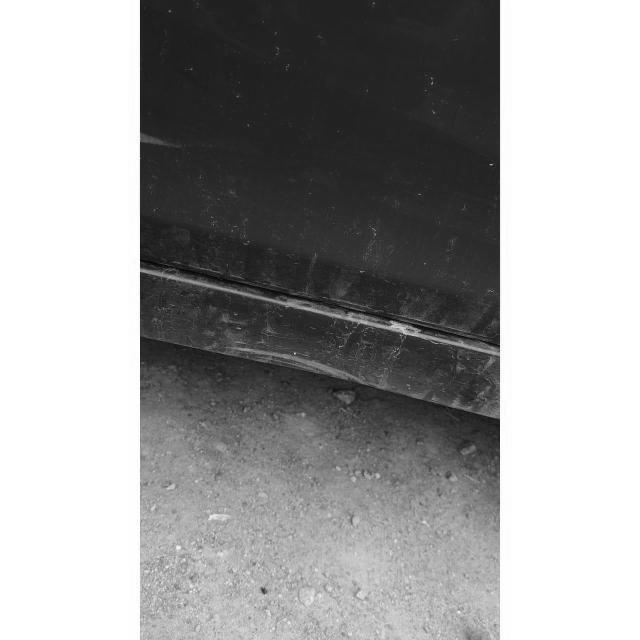Runningboard-Damage: (143, 265, 499, 430)
